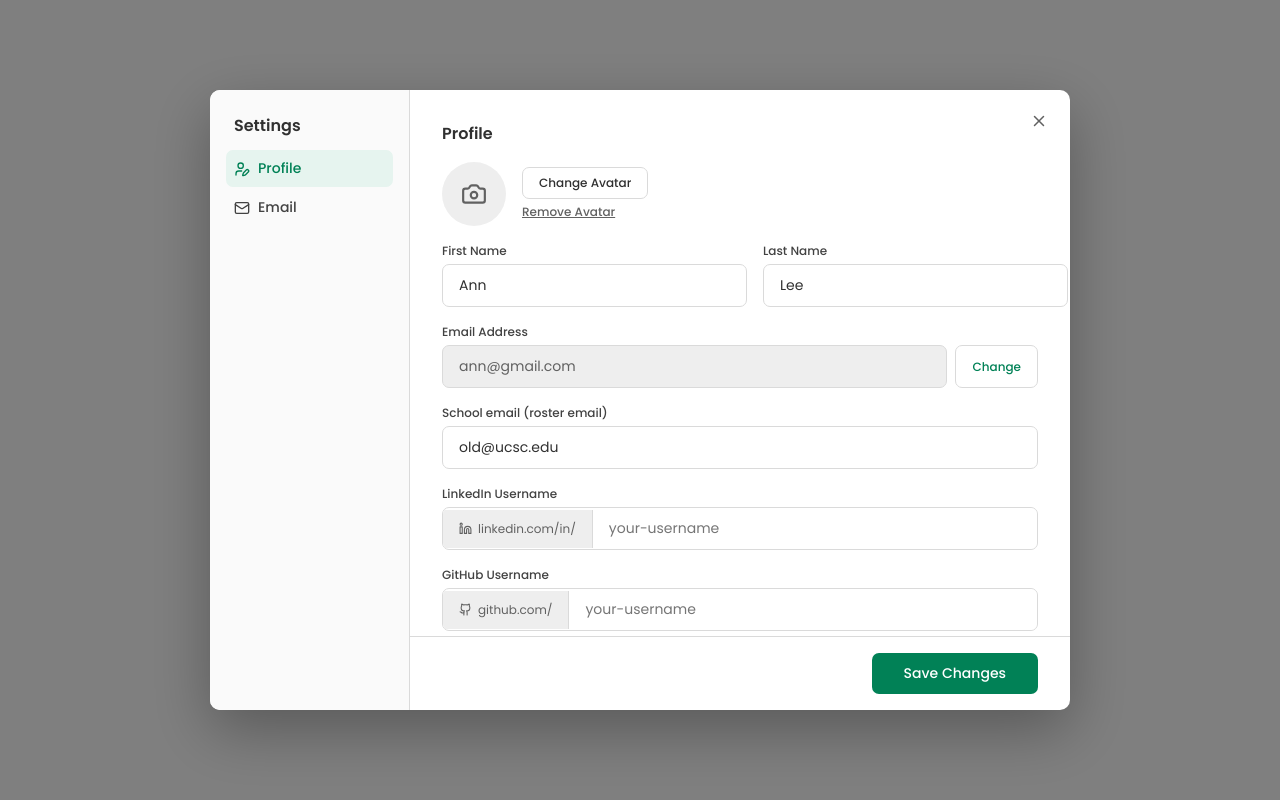
Settings — school email › refuses an address that is not a school email while the schools list is known
Replace the text in the field labelled "School email (roster email)" with "ann@yahoo.com": (740, 448) x1=442 y1=426 x2=1038 y2=469
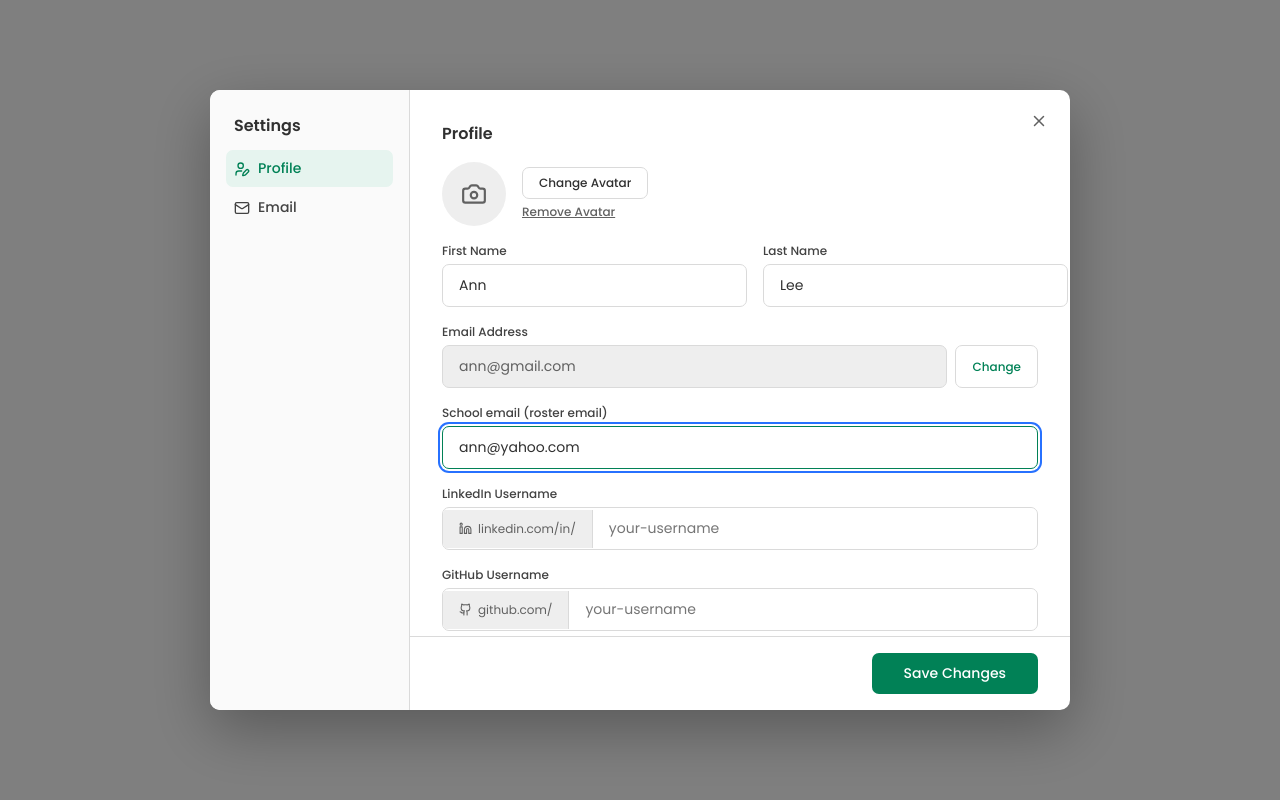
Click the button "Save Changes": (955, 674) x1=872 y1=653 x2=1038 y2=694
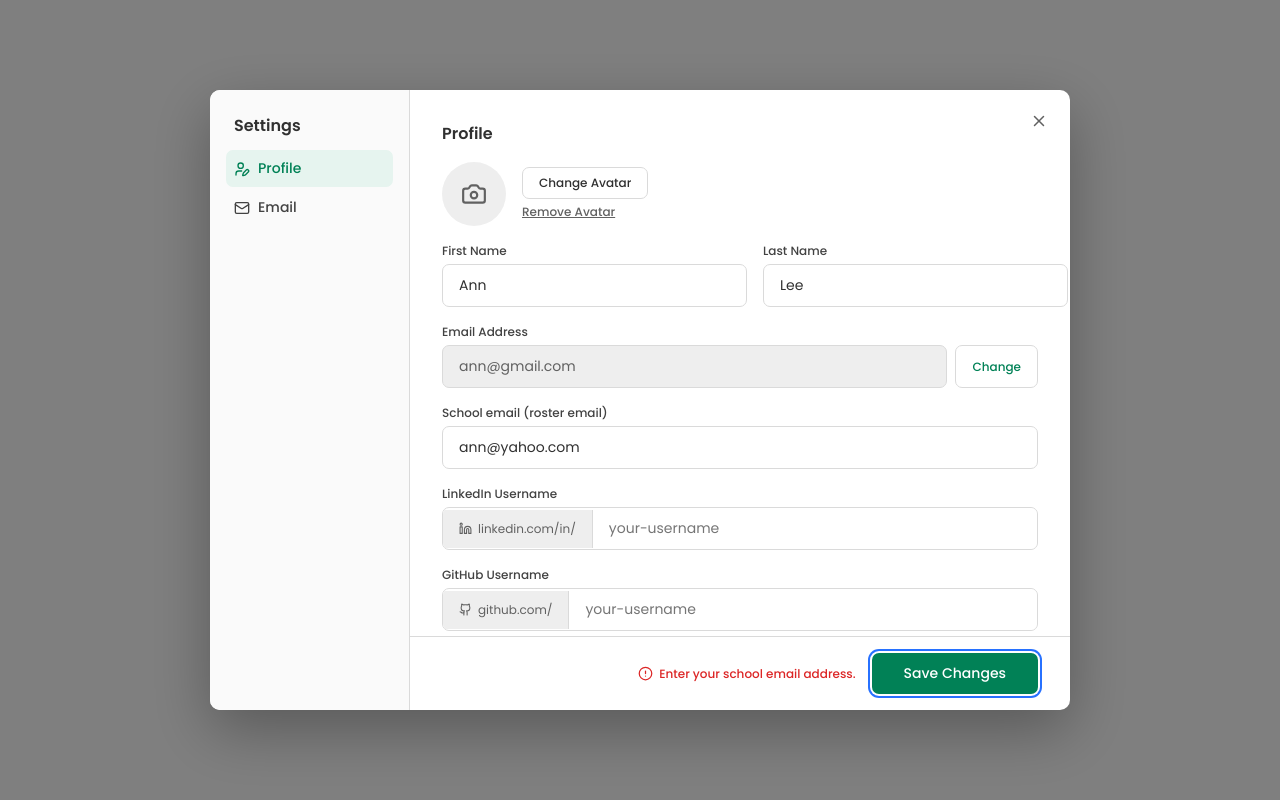
Check: the text "Enter your school email address." is shown, box x1=638 y1=664 x2=856 y2=682
